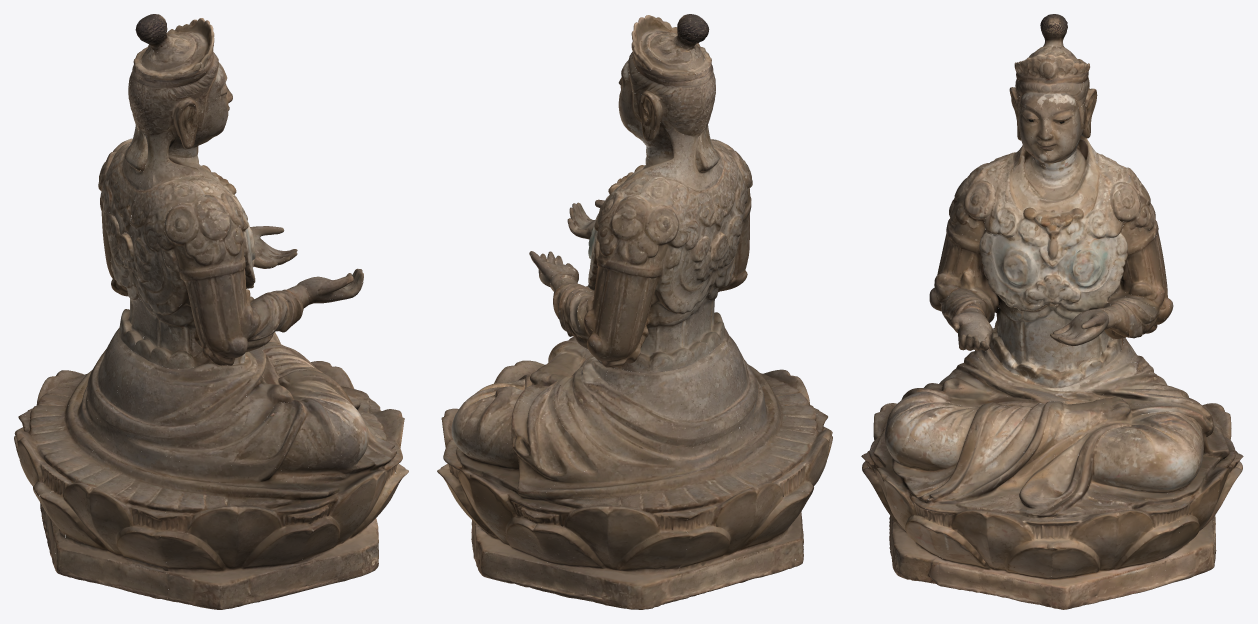
File: f5-samantabhadra.glb
3 renders of one model, left to right at view 1: azimuth 30°, elevation 25°; view 2: azimuth 150°, elevation 25°; view 3: azimuth 270°, elevation 25°, orthographic. The views are drawn at different scales.
Visible parts, largest first — view 1: tripo_node_5bf2e11a-0a46-4496-973d-757f6b6eca6d; view 2: tripo_node_5bf2e11a-0a46-4496-973d-757f6b6eca6d; view 3: tripo_node_5bf2e11a-0a46-4496-973d-757f6b6eca6d.
Part boxes in pixels (bbox=[...]): tripo_node_5bf2e11a-0a46-4496-973d-757f6b6eca6d: bbox=[14, 14, 408, 609]; tripo_node_5bf2e11a-0a46-4496-973d-757f6b6eca6d: bbox=[437, 14, 832, 609]; tripo_node_5bf2e11a-0a46-4496-973d-757f6b6eca6d: bbox=[861, 14, 1243, 609].
Bounding box in the file's own units: 0.6792 × 1 × 0.6941.
1 material, 1 textured.
